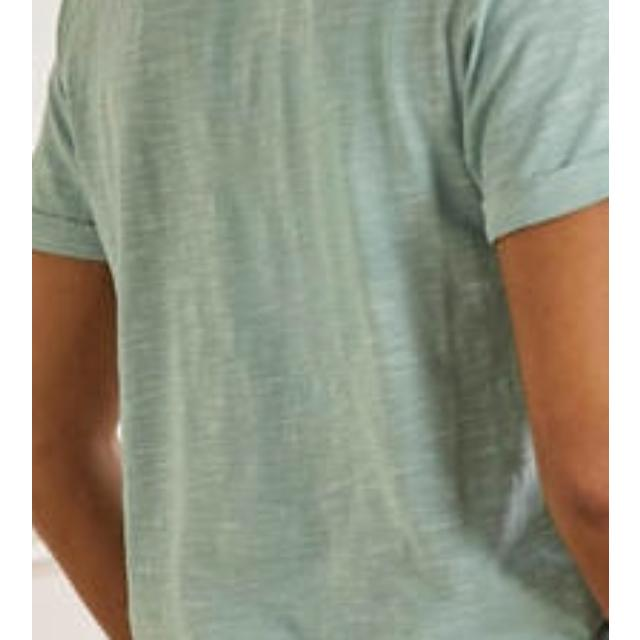cotton: (154, 0, 506, 640)
